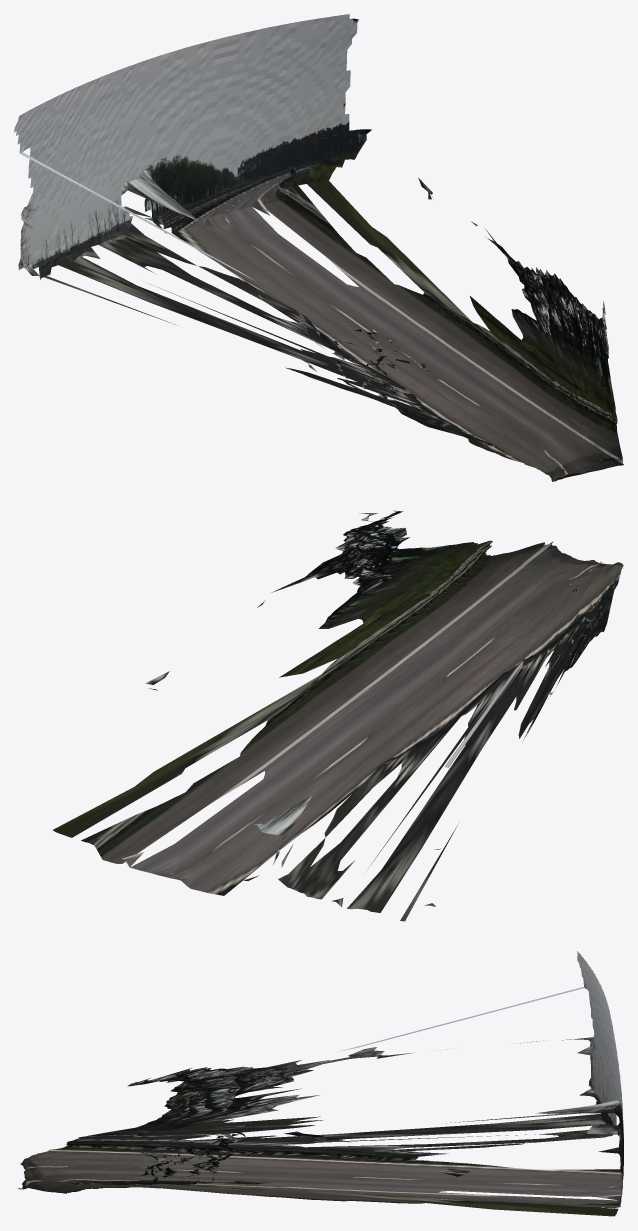
The picture shows the model from 3 angles, top to bottom: view 1: azimuth 30°, elevation 25°; view 2: azimuth 150°, elevation 25°; view 3: azimuth 270°, elevation 25°; orthographic projection. The views are drawn at different scales.
Parts seen in each view (by area): view 1: defaultobject; view 2: defaultobject; view 3: defaultobject.
Part boxes in pixels (x1=…): defaultobject: x1=14, y1=14, x2=623, y2=481; defaultobject: x1=53, y1=510, x2=623, y2=921; defaultobject: x1=18, y1=951, x2=623, y2=1216.
Bounding box in the file's own units: 26.14 × 12.5 × 44.88.
Materials: 1 (1 with a texture image).
